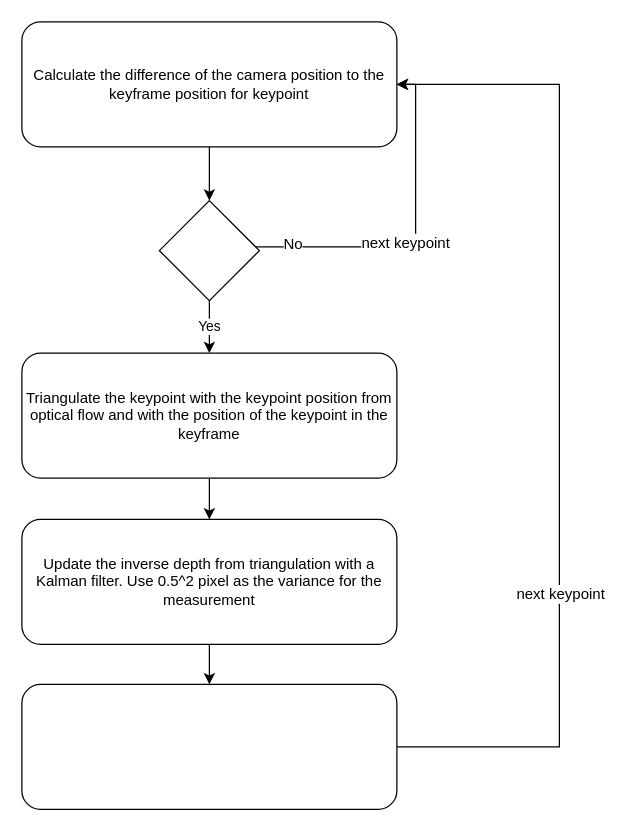
Image size: 626x831. Some labels were removed from this diagram. Each missing label, with the box of its shape:
Is the change > 10cm: (158, 199, 259, 301)
Transfrom the ouput from the Kalman filter back into global coordinates: (21, 683, 397, 809)
